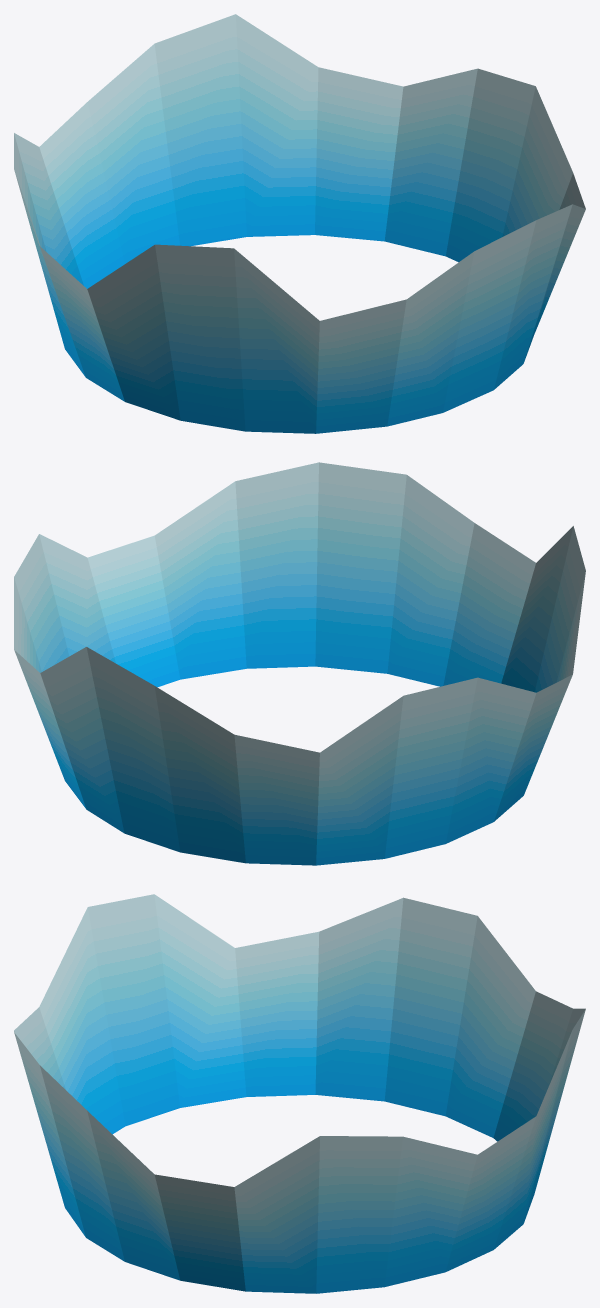
Rendered from waterRing_inner_mod_01.fbx.
3 renders of one model, top to bottom at view 1: azimuth 30°, elevation 25°; view 2: azimuth 150°, elevation 25°; view 3: azimuth 270°, elevation 25°, orthographic.
Parts seen in each view (by area): view 1: waterRing_01; view 2: waterRing_01; view 3: waterRing_01.
Part boxes in pixels (x1,y1,x2,y2): waterRing_01: [14, 14, 585, 433]; waterRing_01: [14, 462, 585, 865]; waterRing_01: [14, 894, 585, 1293].
Size of the model in its own units: 2.11 by 2.11 by 0.8314.
